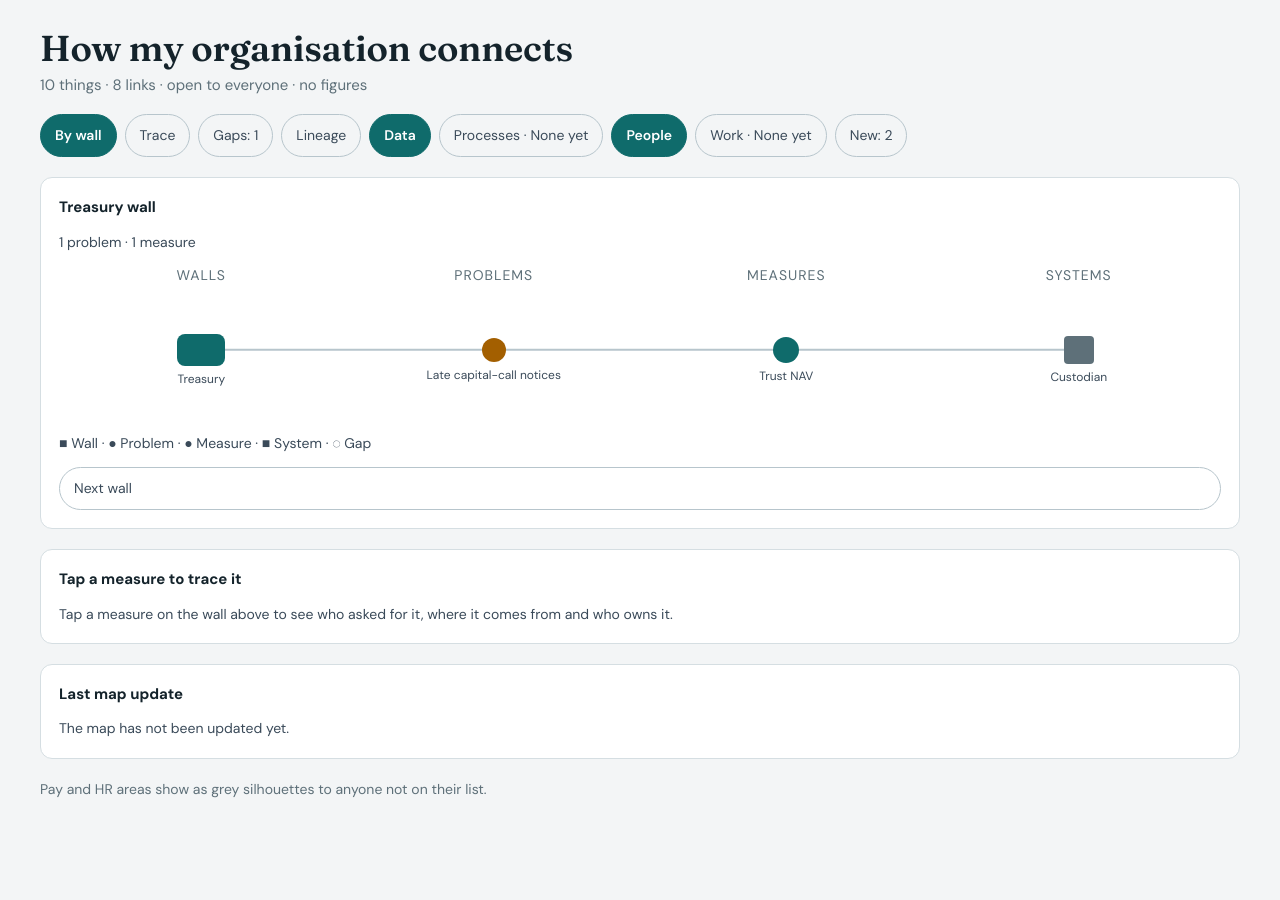
Test: How my organisation connects › the phone shows one wall card at a time and the tab bar
Check: the text "Treasury wall" is shown, box [59,196,156,220]
Check: the text "1 problem · 1 measure" is shown, box [59,232,196,250]
Click the button "Next wall": coordinates (103, 488) [59,467,1221,510]
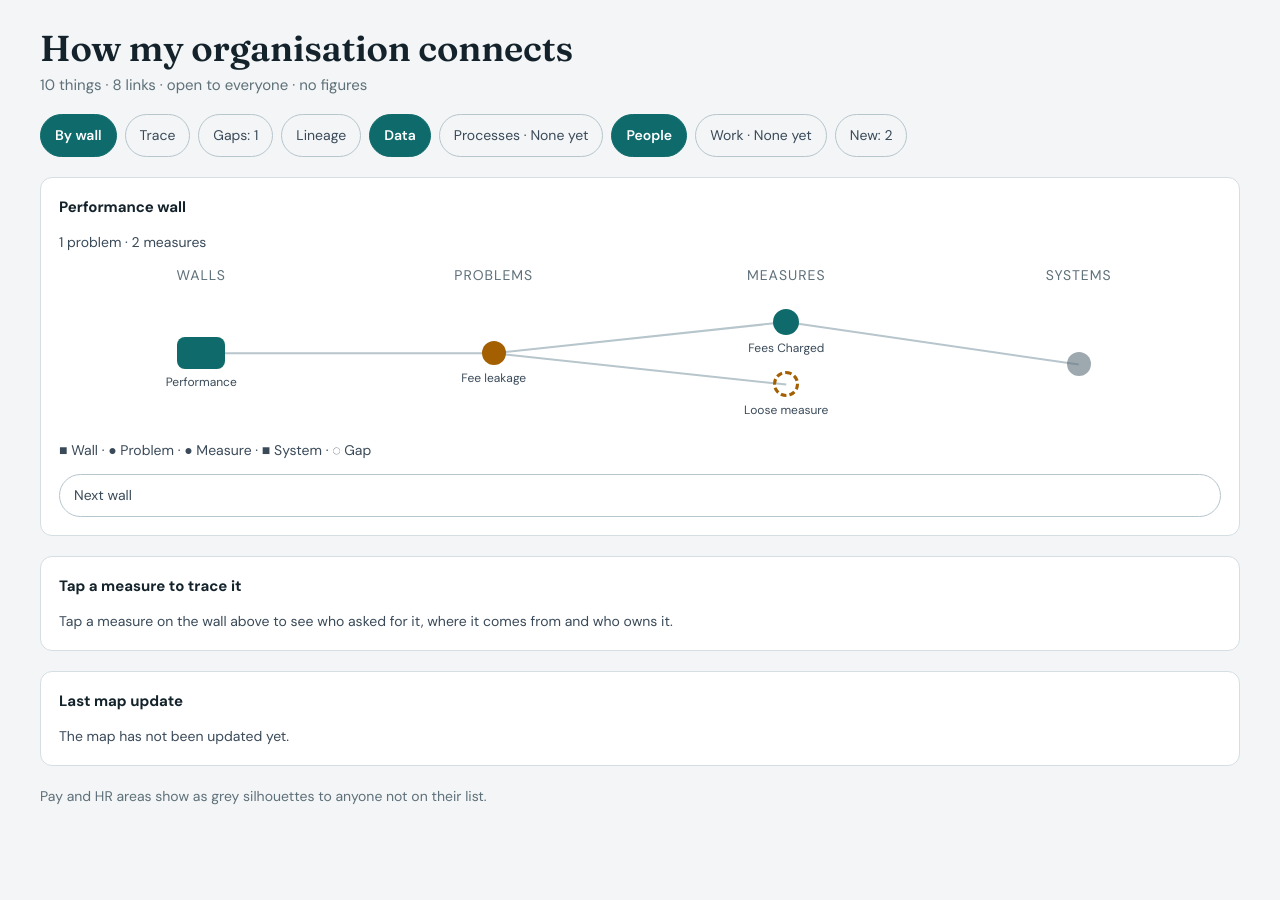
Check: the text "Performance wall" is shown, box [59,196,186,220]
